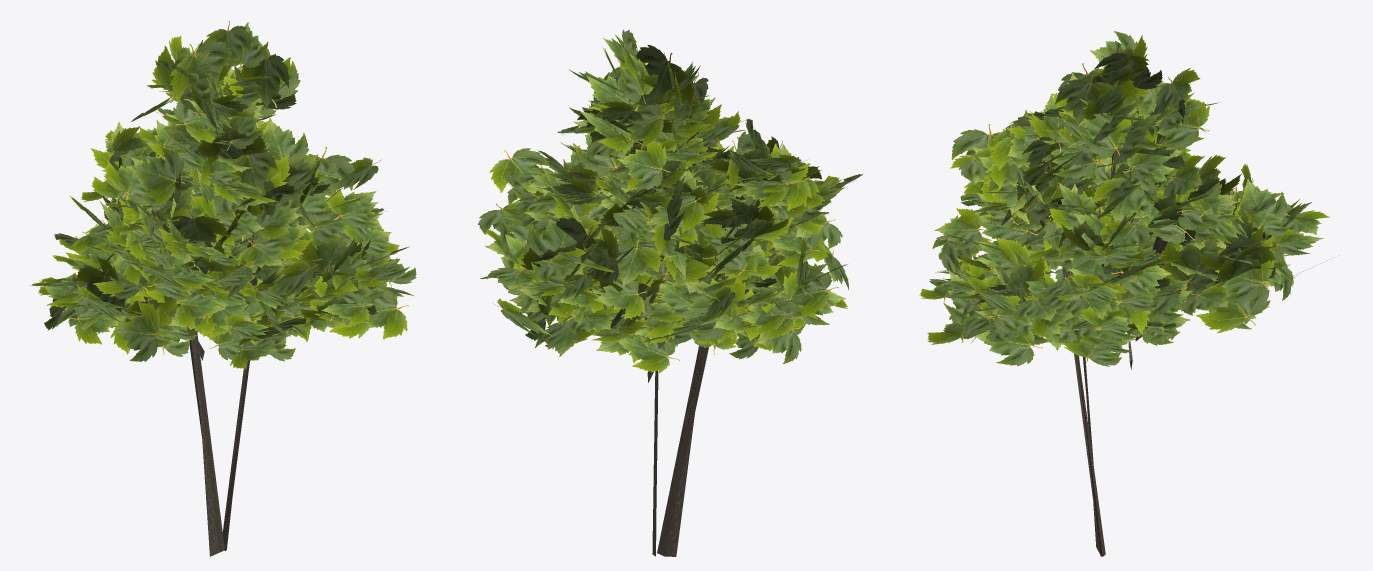
Rendered from tree_maple_lod2.glb.
3 renders of one model, left to right at view 1: azimuth 30°, elevation 25°; view 2: azimuth 150°, elevation 25°; view 3: azimuth 270°, elevation 25°, orthographic.
Visible parts, largest first — view 1: Maple_tree1_LOD2; view 2: Maple_tree1_LOD2; view 3: Maple_tree1_LOD2.
Part boxes in pixels (bbox=[...]): Maple_tree1_LOD2: bbox=[30, 21, 416, 556]; Maple_tree1_LOD2: bbox=[478, 29, 862, 556]; Maple_tree1_LOD2: bbox=[919, 31, 1330, 556].
Size of the model in its own units: 2.84 by 3.86 by 2.99.
Materials: 2 (2 with a texture image).
